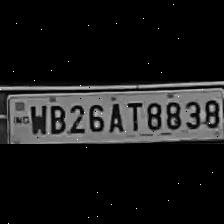2: (66, 100, 86, 134)
3: (183, 96, 201, 130)
6: (86, 99, 104, 133)
8: (162, 96, 182, 130), (201, 96, 221, 128), (144, 97, 162, 130)
A: (105, 99, 124, 134)
B: (46, 101, 64, 135)
T: (124, 97, 142, 131)
W: (26, 101, 46, 135)
